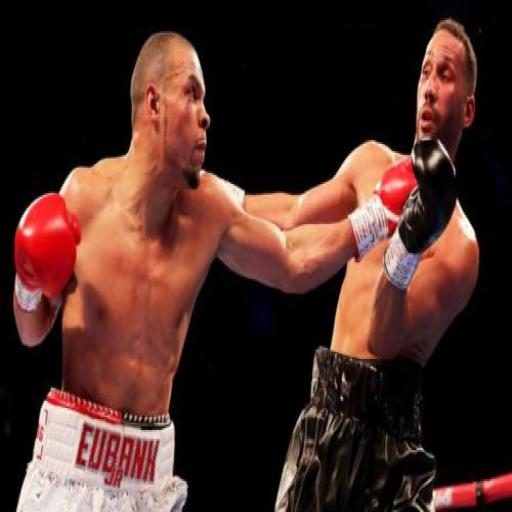boxing: (10, 28, 435, 510)
